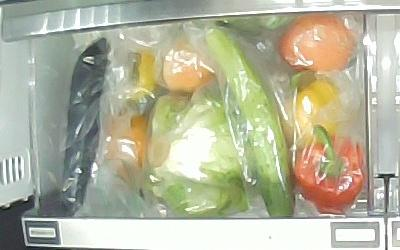apple_vinyl: (277, 14, 356, 74)
cucumber_vinyl: (204, 28, 295, 217)
eggplant_vinyl: (60, 36, 109, 215)
grapefruit_vinyl: (107, 114, 150, 181)
lettuce_vinyl: (149, 93, 248, 217)
paprika_vinyl: (294, 124, 364, 210), (280, 72, 343, 147)
peach_vinyl: (163, 37, 215, 91)
persimmon_vinyl: (123, 49, 159, 101)
